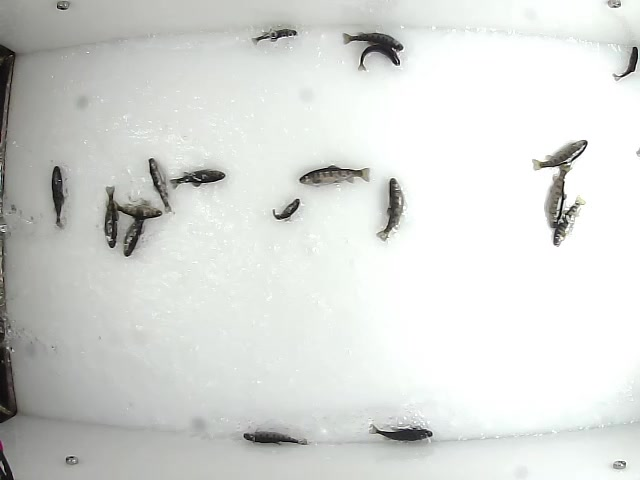fish: (542, 162, 575, 231), (296, 163, 376, 191), (373, 177, 406, 242), (550, 193, 587, 249), (530, 137, 588, 172), (122, 196, 153, 255), (341, 31, 407, 53), (147, 157, 172, 215), (365, 423, 434, 444), (242, 428, 312, 447), (354, 44, 399, 73), (48, 162, 67, 230), (609, 44, 640, 84), (168, 169, 228, 189), (102, 181, 119, 248), (109, 199, 163, 220), (249, 27, 299, 48), (270, 197, 301, 224)
